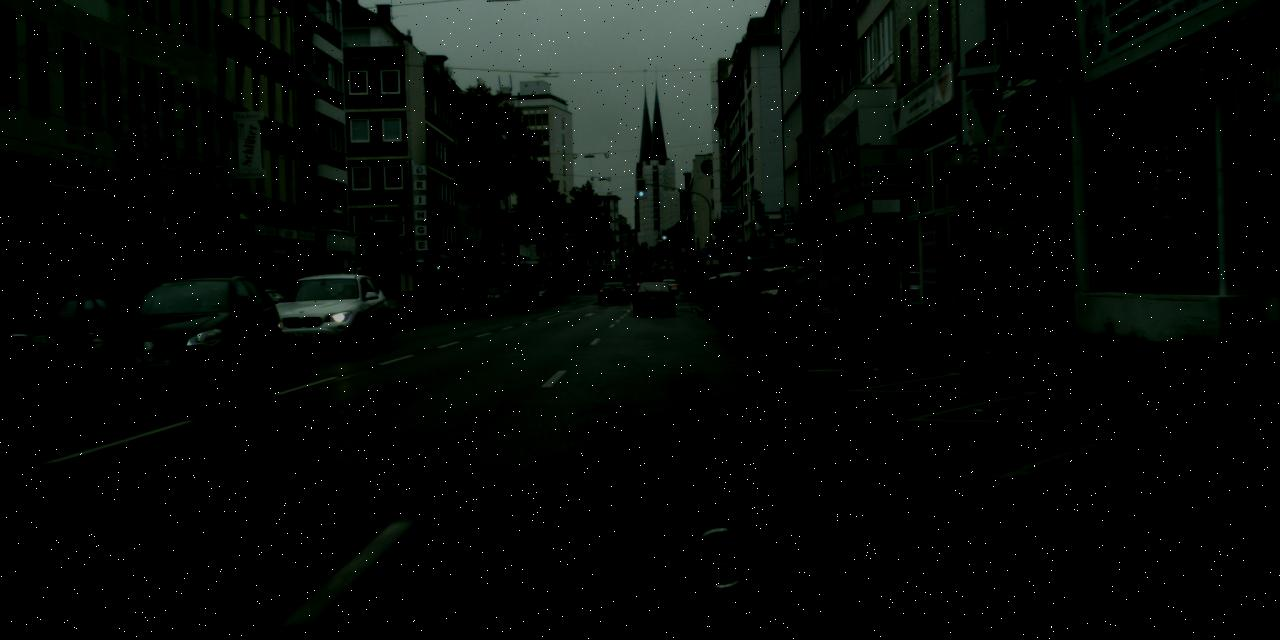ped: (992, 220, 1036, 327), (1038, 226, 1081, 330), (88, 282, 114, 350), (437, 280, 447, 311), (432, 286, 434, 304)
